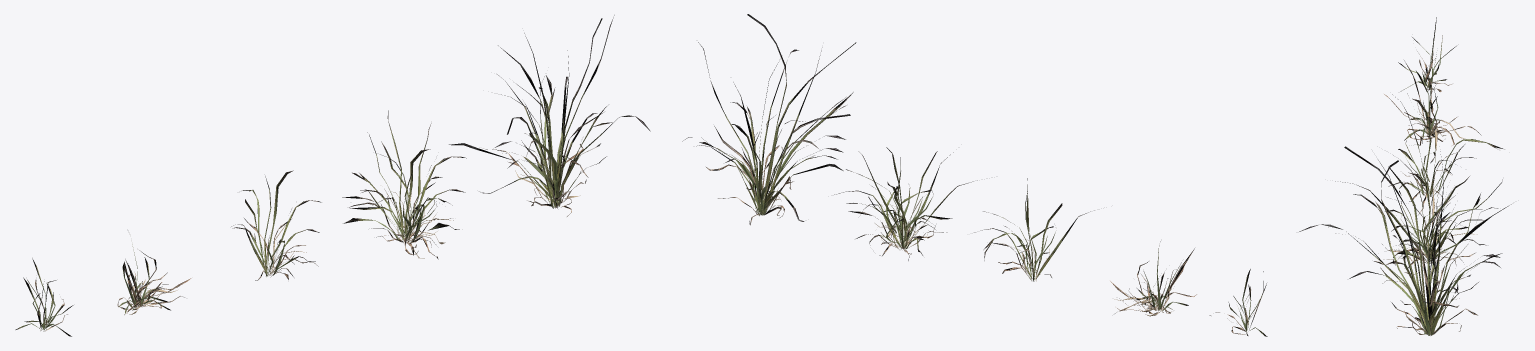
File: m_grass_medium_02.0b7baa957b.glb
3 renders of one model, left to right at view 1: azimuth 30°, elevation 25°; view 2: azimuth 150°, elevation 25°; view 3: azimuth 270°, elevation 25°, orthographic. The views are drawn at different scales.
Visible parts, largest first — view 1: grass_medium_02_a; view 2: grass_medium_02_a; view 3: grass_medium_02_a.
Part boxes in pixels (x1,y1,x2,y2): grass_medium_02_a: (15,15,650,336); grass_medium_02_a: (682,14,1267,336); grass_medium_02_a: (1299,17,1511,335).
Size of the model in its own units: 1.31 by 0.4049 by 0.4318.
Materials: 1 (1 with a texture image).
